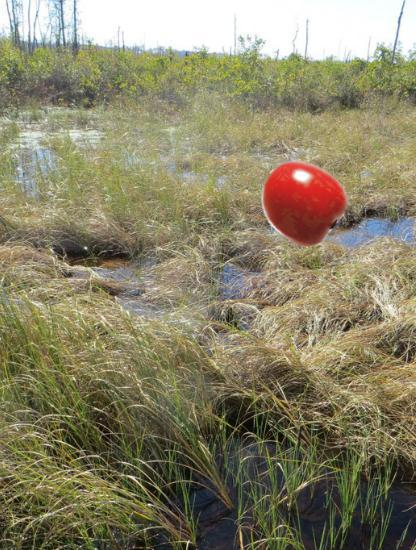Tomato: (259, 159, 343, 243)
